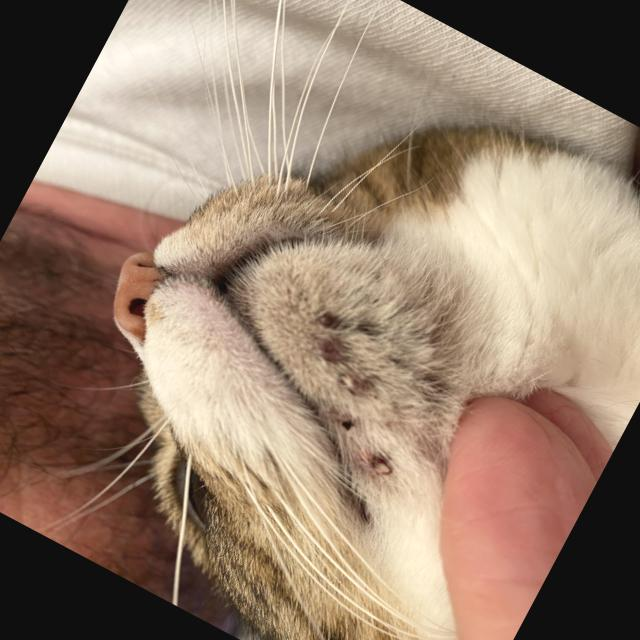cat-acne: (252, 288, 475, 498), (305, 328, 358, 372), (359, 448, 400, 486), (306, 303, 348, 340), (329, 364, 367, 400), (332, 410, 361, 436)
